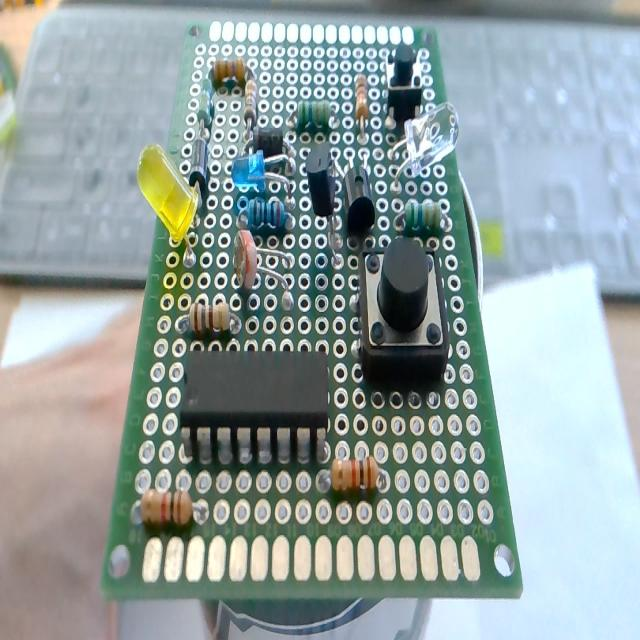IC: (180, 347, 328, 458)
cds: (234, 228, 294, 304)
diode: (189, 125, 210, 204), (253, 127, 285, 160)
led: (138, 140, 206, 272), (392, 100, 459, 180), (231, 148, 293, 192)
resistor: (136, 492, 206, 530), (178, 296, 236, 334), (330, 454, 382, 493), (405, 198, 443, 235), (245, 198, 289, 228), (296, 100, 332, 132), (213, 57, 247, 86), (354, 73, 368, 126), (198, 85, 213, 126), (244, 88, 257, 124)
switch: (358, 242, 449, 382), (386, 43, 422, 127)
transistor: (309, 145, 347, 263), (344, 161, 374, 235)
